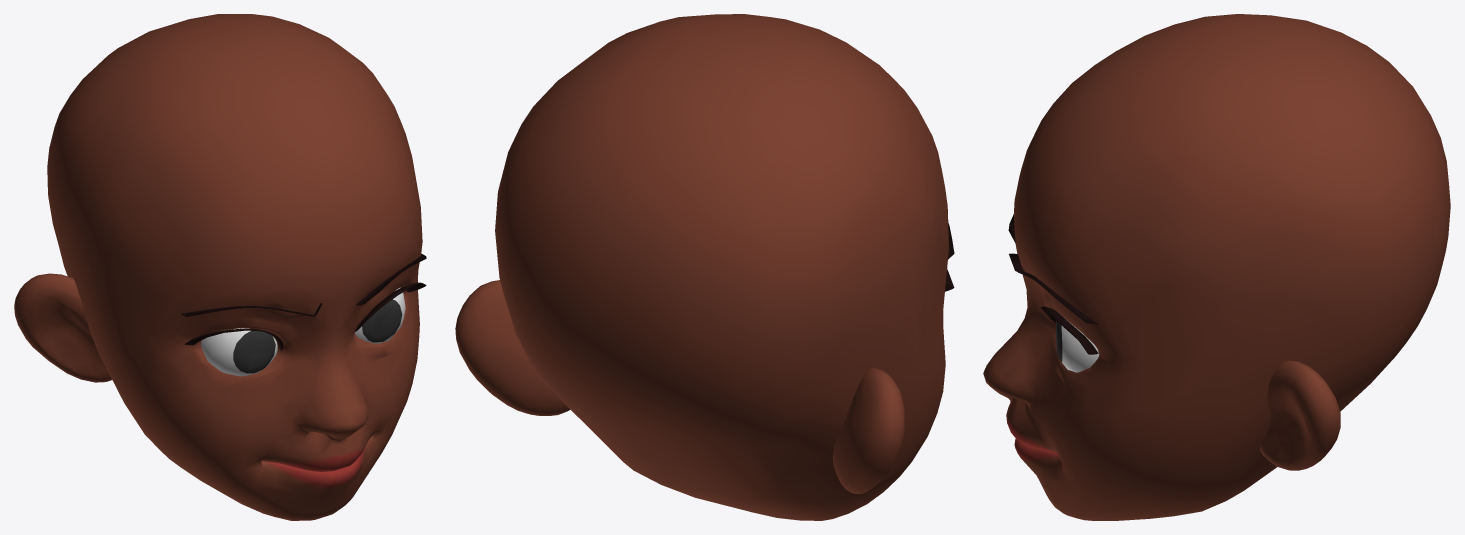
The picture shows the model from 3 angles, left to right: view 1: azimuth 30°, elevation 25°; view 2: azimuth 150°, elevation 25°; view 3: azimuth 270°, elevation 25°; orthographic projection. The views are drawn at different scales.
Parts seen in each view (by area): view 1: skin.001, ears.001, eyes.001, brows.001; view 2: skin.001, ears.001; view 3: skin.001, ears.001, brows.001, eyes.001.
Boxes of the visible parts, x1,y1,x2,y2 form: skin.001: [47, 14, 422, 520]; ears.001: [14, 273, 111, 382]; eyes.001: [201, 287, 405, 376]; brows.001: [180, 253, 426, 350]; skin.001: [495, 14, 948, 520]; ears.001: [455, 280, 904, 493]; skin.001: [983, 14, 1450, 520]; ears.001: [1260, 360, 1340, 470]; brows.001: [1008, 215, 1098, 354]; eyes.001: [1056, 318, 1099, 372].
Size of the model in its own units: 1.8 by 2 by 1.8.
11 materials, 1 textured.
